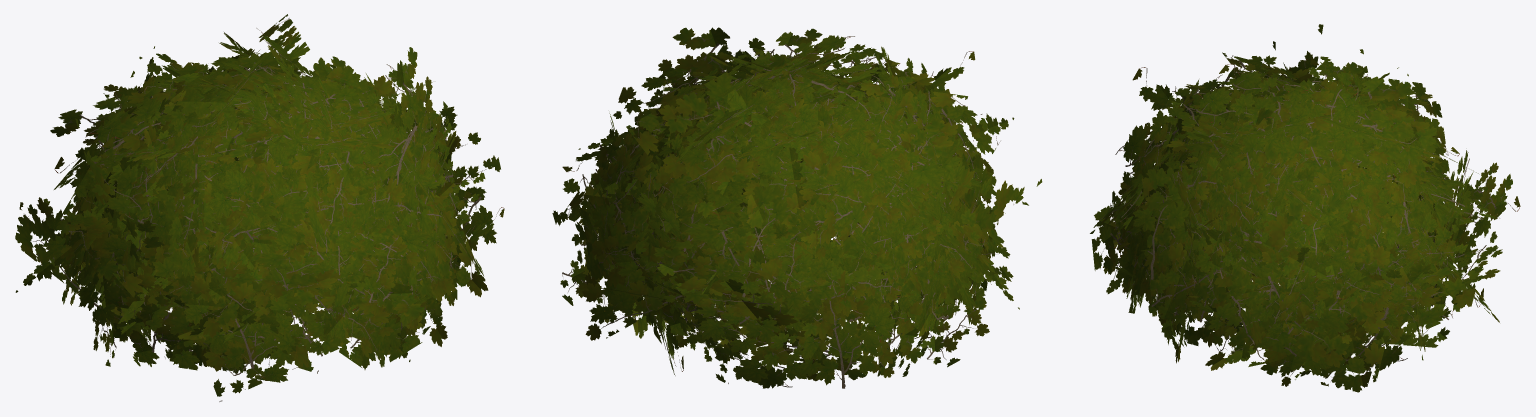
File: pv_bush_round.fbx
3 views of the same model, side by side, from view 1: azimuth 30°, elevation 25°; view 2: azimuth 150°, elevation 25°; view 3: azimuth 270°, elevation 25° (orthographic). The views are drawn at different scales.
Parts seen in each view (by area): view 1: pv_bush_round_LOD0; view 2: pv_bush_round_LOD0; view 3: pv_bush_round_LOD0.
Boxes of the visible parts, left/top/right/bottom form: pv_bush_round_LOD0: left=15, top=14, right=504, bottom=401; pv_bush_round_LOD0: left=552, top=27, right=1042, bottom=388; pv_bush_round_LOD0: left=1090, top=24, right=1520, bottom=392.
Size of what is drawn, in the model's own units: 2.27 by 1.47 by 2.12.
1 material, 1 textured.
